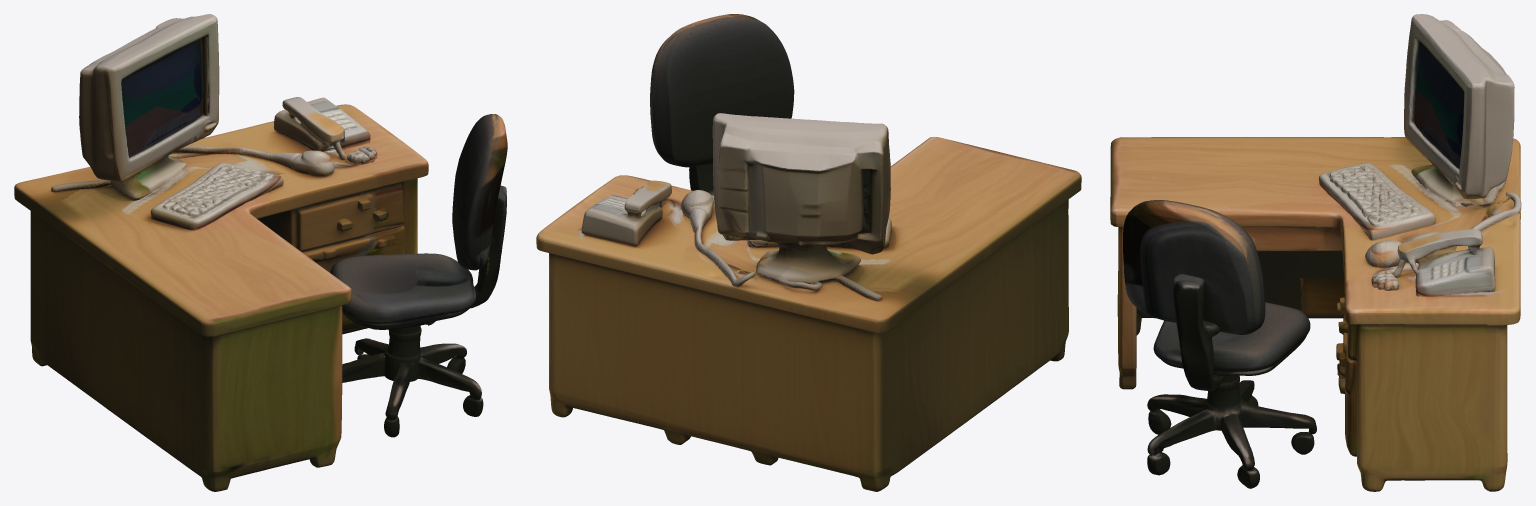
Rendered from front_desk.glb.
The picture shows the model from 3 angles, left to right: view 1: azimuth 30°, elevation 25°; view 2: azimuth 150°, elevation 25°; view 3: azimuth 270°, elevation 25°; orthographic projection. The views are drawn at different scales.
Parts seen in each view (by area): view 1: geometry_0; view 2: geometry_0; view 3: geometry_0.
Boxes of the visible parts, x1,y1,x2,y2 form: geometry_0: (14, 14, 507, 491); geometry_0: (536, 14, 1081, 491); geometry_0: (1110, 14, 1521, 491).
Bounding box in the file's own units: 1 × 0.8617 × 0.9558.
1 material, 1 textured.
